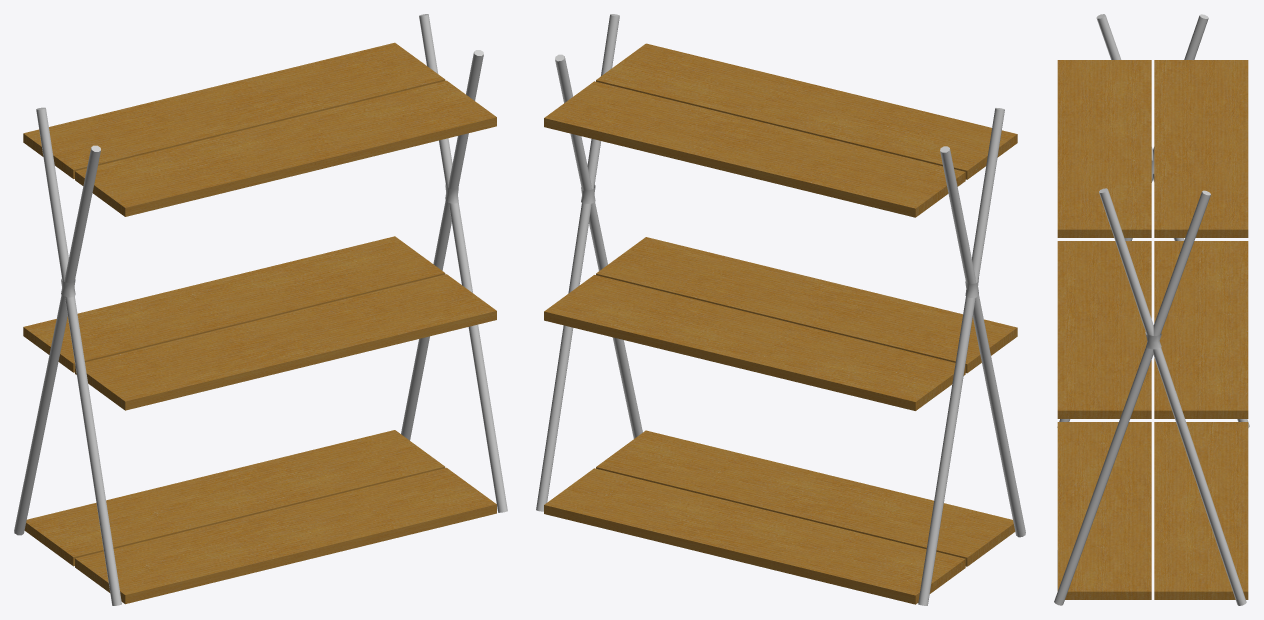
File: Orkoth'sShelves.fbx
3 renders of one model, left to right at view 1: azimuth 30°, elevation 25°; view 2: azimuth 150°, elevation 25°; view 3: azimuth 270°, elevation 25°, orthographic. The views are drawn at different scales.
Parts seen in each view (by area): view 1: LowPolyShelves_Shelves, LowPolyShelves_Poles; view 2: LowPolyShelves_Shelves, LowPolyShelves_Poles; view 3: LowPolyShelves_Shelves, LowPolyShelves_Poles.
Part boxes in pixels (bbox=[...]): LowPolyShelves_Shelves: bbox=[23, 42, 496, 604]; LowPolyShelves_Poles: bbox=[14, 14, 507, 605]; LowPolyShelves_Shelves: bbox=[544, 43, 1017, 604]; LowPolyShelves_Poles: bbox=[536, 14, 1025, 605]; LowPolyShelves_Shelves: bbox=[1057, 60, 1248, 599]; LowPolyShelves_Poles: bbox=[1054, 14, 1249, 605].
Bounding box in the file's own units: 4.27 × 4.59 × 1.96.
